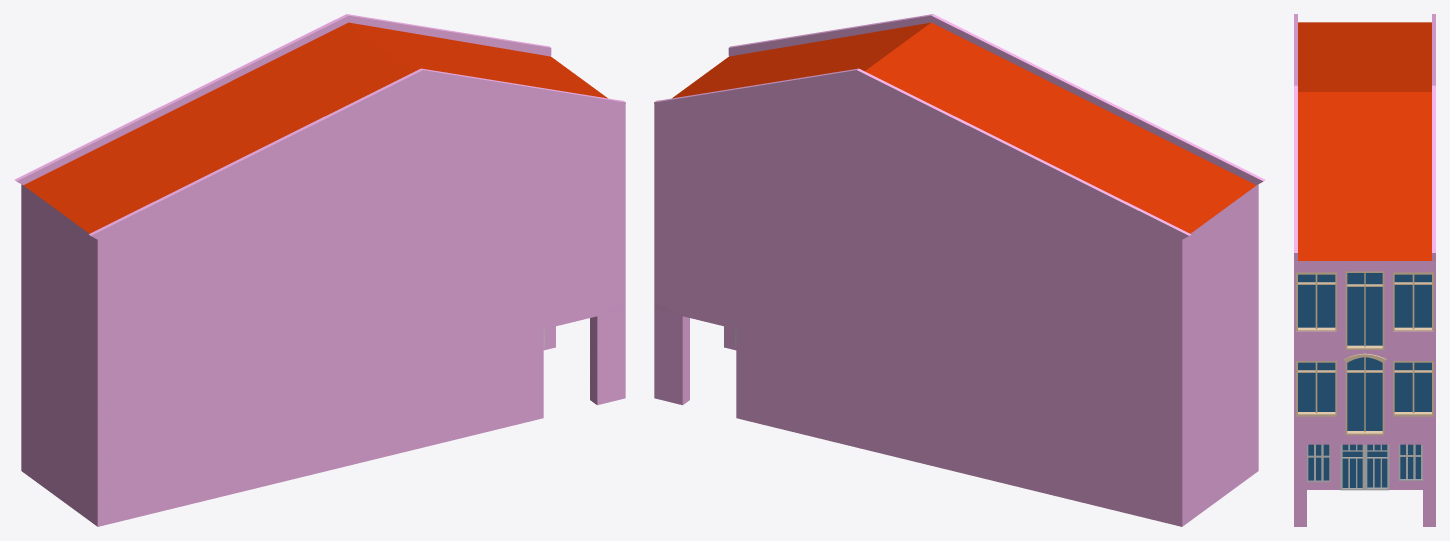
Rendered from house1.fbx.
3 renders of one model, left to right at view 1: azimuth 30°, elevation 25°; view 2: azimuth 150°, elevation 25°; view 3: azimuth 270°, elevation 25°, orthographic. The views are drawn at different scales.
Visible parts, largest first — view 1: house1; view 2: house1; view 3: house1.
Part boxes in pixels (x1,y1,x2,y2): house1: [14, 14, 625, 526]; house1: [654, 14, 1265, 526]; house1: [1294, 14, 1435, 526].
Bounding box in the file's own units: 1208 × 813 × 299.
